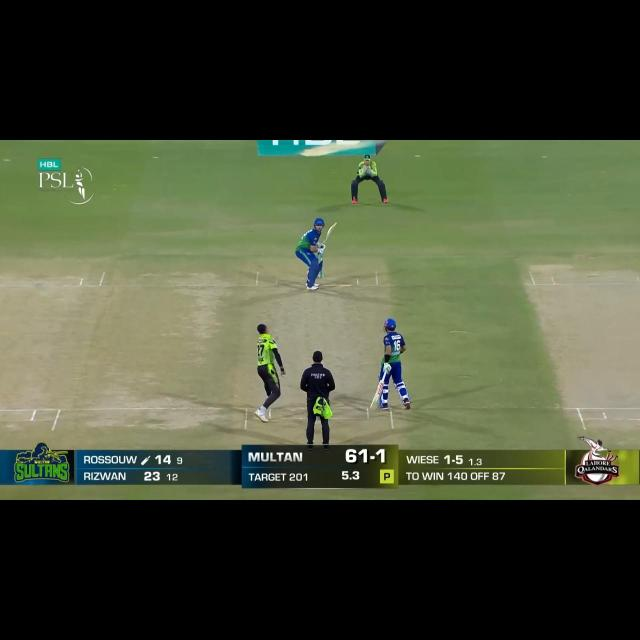bat: (369, 378, 385, 409), (322, 222, 337, 244)
toe: (370, 402, 378, 410), (330, 222, 337, 229)
